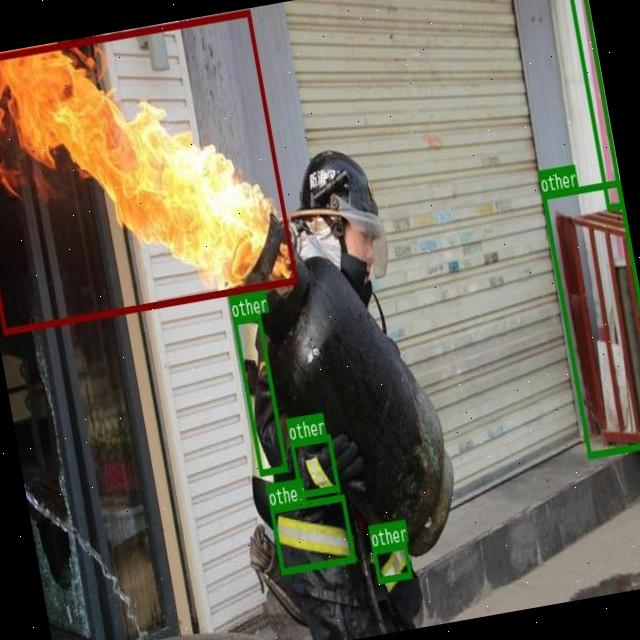fire: (0, 7, 296, 333)
